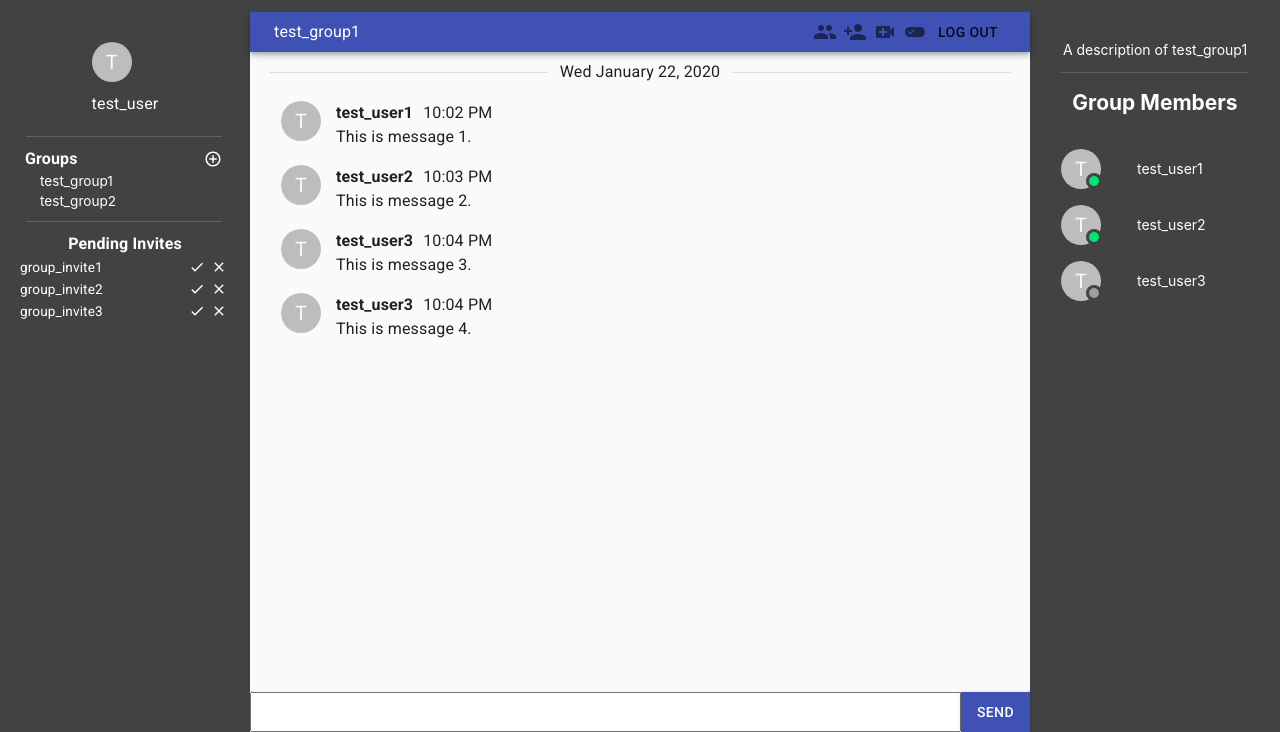
Scenario: <ChatPage/> when the screen size is large › should change the current group
Expected: the text with test id "nav-group-name" reads "test_group1", [274, 22, 360, 41]
Expected: the number of list items with test id "message" is 4, [281, 101, 492, 146]; [281, 165, 492, 210]; [281, 229, 492, 274]; [281, 293, 492, 338]
// click test_group2 group tab
Click the button with test id "group-tab-button" showing "test_group2".
click(78, 201)  # box [40, 193, 116, 209]
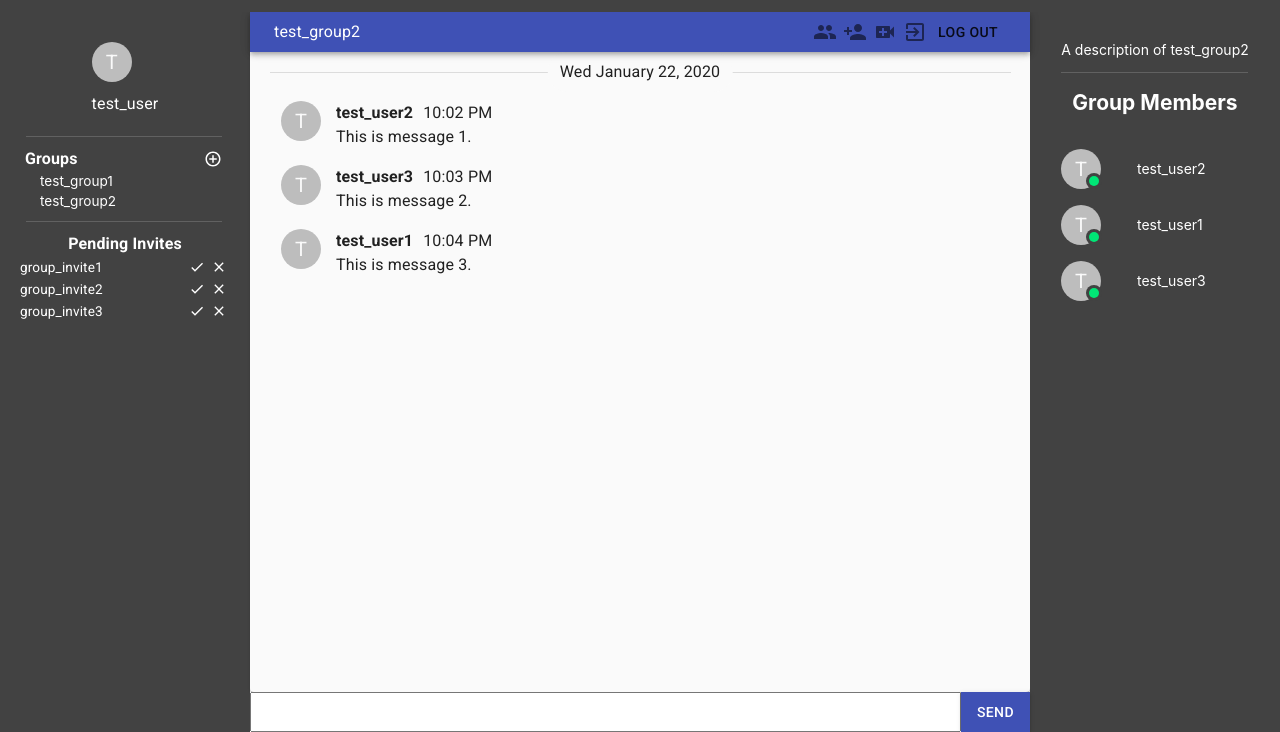
Now the text with test id "nav-group-name" reads "test_group2", box [274, 22, 360, 41]
Now the number of list items with test id "message" is 3, box [281, 101, 492, 146]; [281, 165, 492, 210]; [281, 229, 492, 274]
